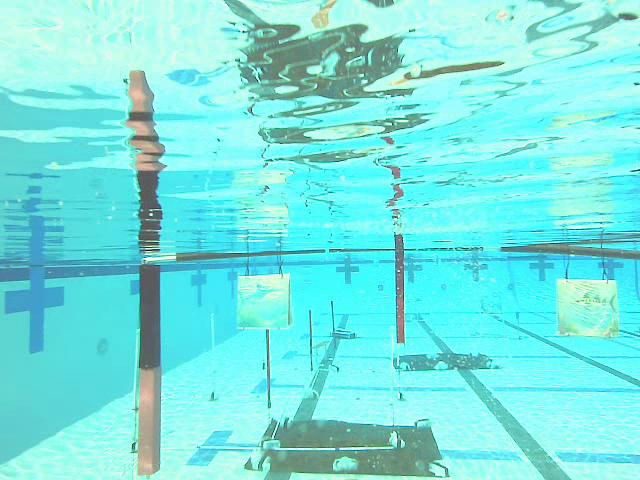left_gate_poster: (129, 256, 168, 479)
shark: (235, 272, 293, 329)
swordfish: (557, 279, 623, 338)
